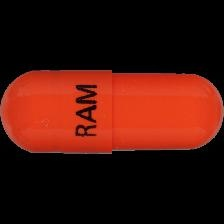63187-644: (0, 0, 224, 224)
